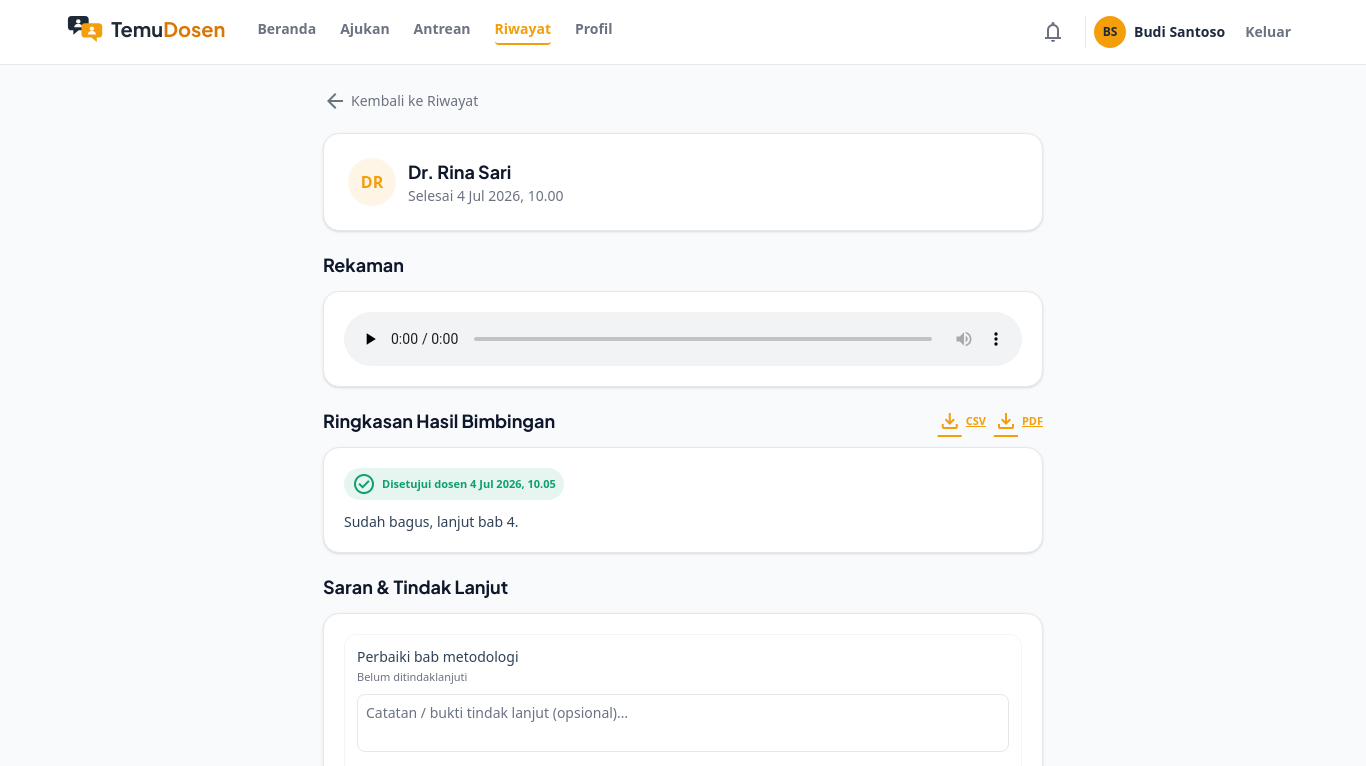
Test: StudentSessionDetail › sends an optional completion note when the student fills one in (ADVICE-01)
The image size is (1366, 766).
Expected: the text "Perbaiki bab metodologi" is shown, [357,647,519,666]
Type "sudah revisi bab 3" into the text box with placeholder "Catatan / bukti tindak lanjut (opsional)…" at [683, 722], box [357,694,1009,752]
(page scrolled)
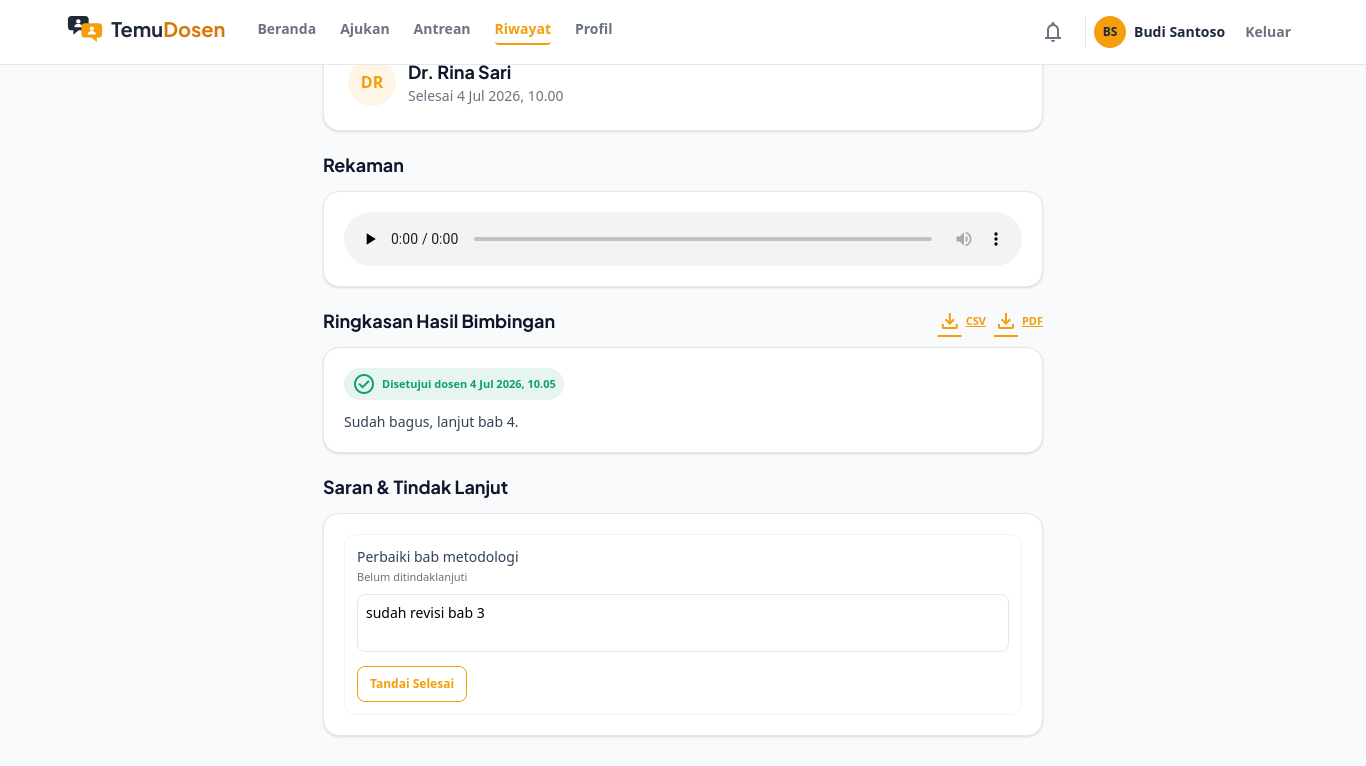
Click the button "Tandai Selesai" at [412, 684], box [357,666,467,702]
(page scrolled)
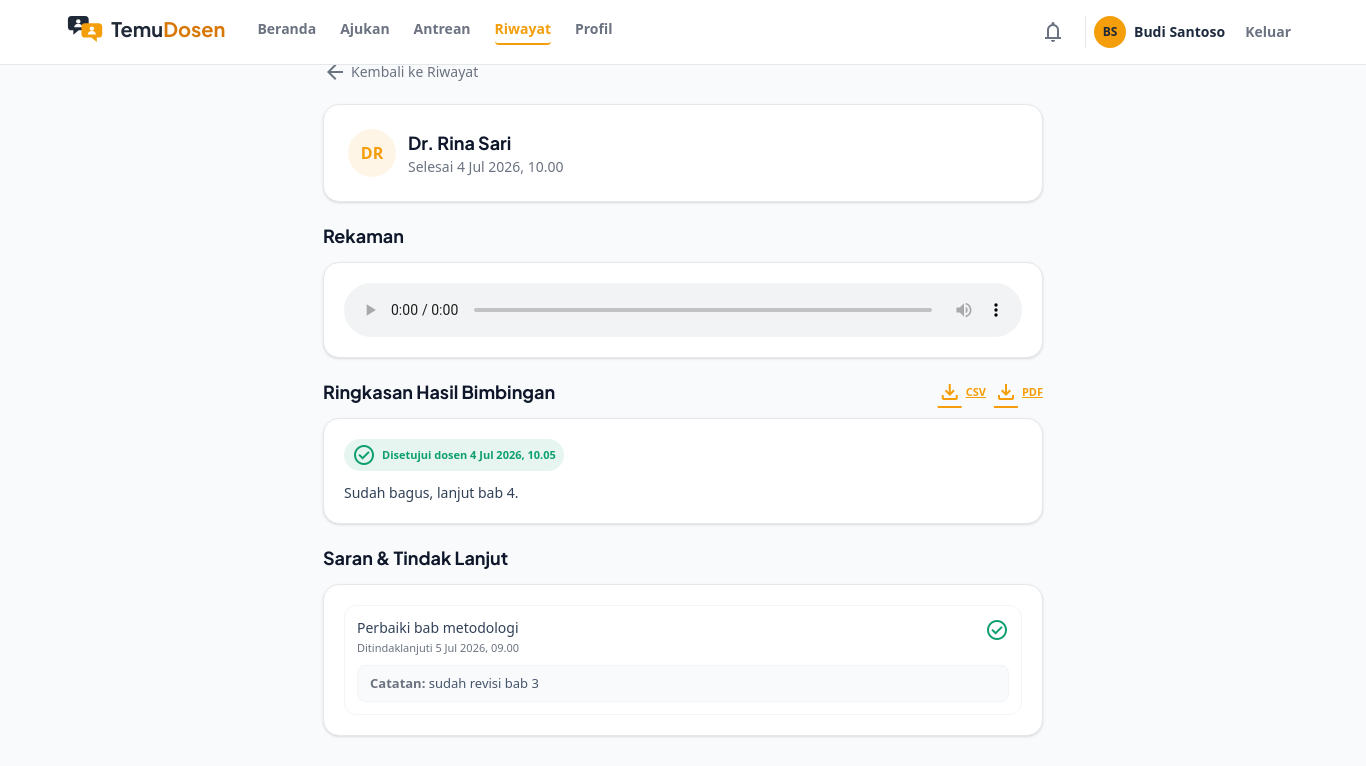
Now the text "Catatan: sudah revisi bab 3" is shown, box [357,664,1009,702]
